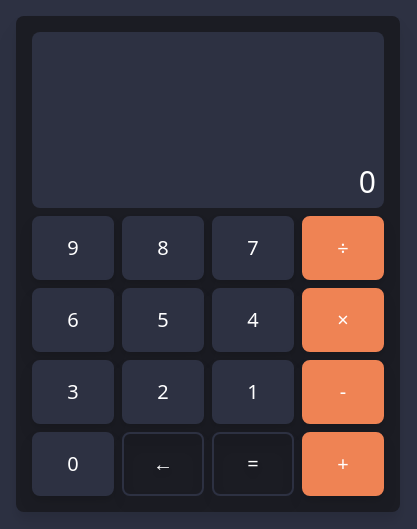
Test case: Calculation Test › should display result for given calculation
What coordinates should you click on to do the following:
click the button with test id "1"
I would click on:
 (253, 392)
Its box is [212,360,294,424].
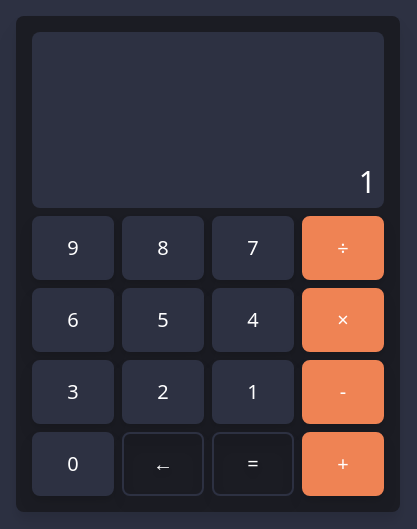
What coordinates should you click on to do the following:
click the button with test id "0"
I would click on:
 (73, 464)
Its box is [32,432,114,496].
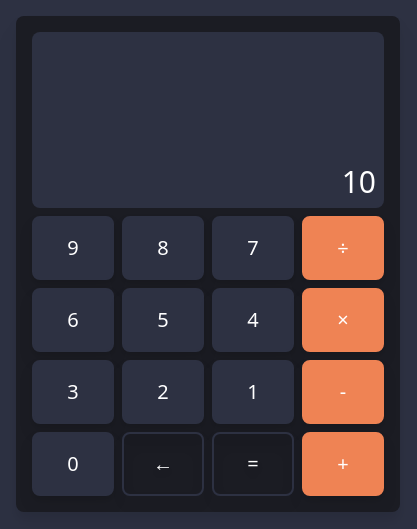
What coordinates should you click on to do the following:
click the button with test id "0"
I would click on:
 (73, 464)
Its box is [32,432,114,496].
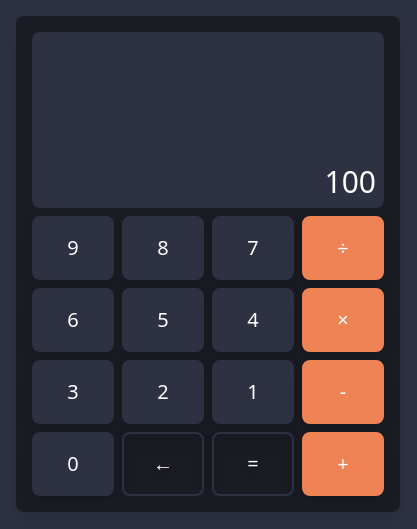
What coordinates should you click on to do the following:
click the button with test id "×"
I would click on:
 (343, 320)
Its box is [302,288,384,352].
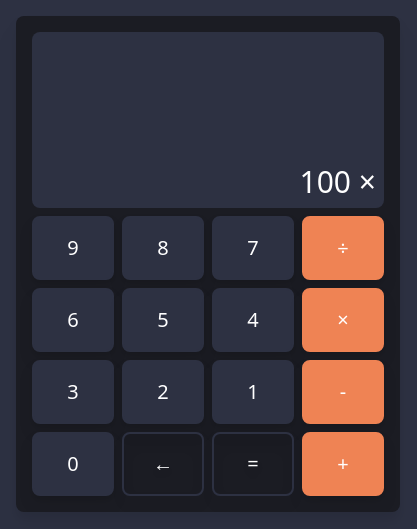
What coordinates should you click on to do the following:
click the button with test id "2"
I would click on:
 (163, 392)
Its box is [122,360,204,424].
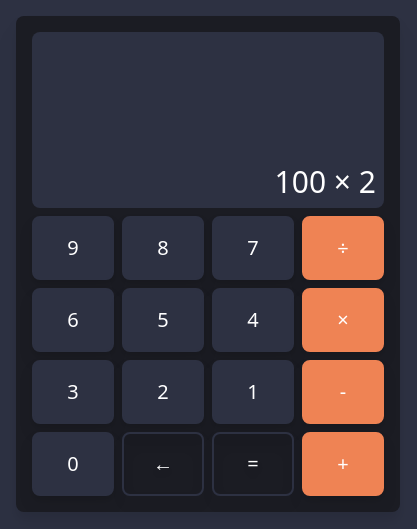
What coordinates should you click on to do the following:
click the button with test id "="
I would click on:
 (253, 464)
Its box is [212,432,294,496].
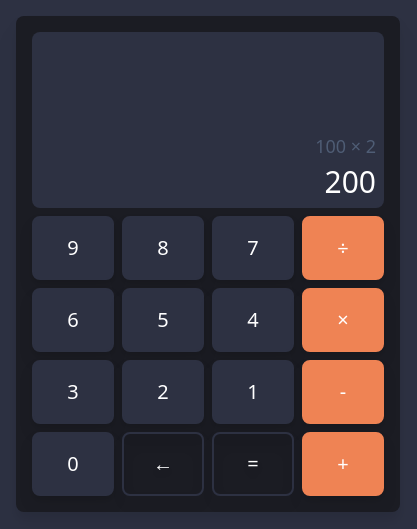
Expected: the text "200" is shown, [324,164,376,200]
